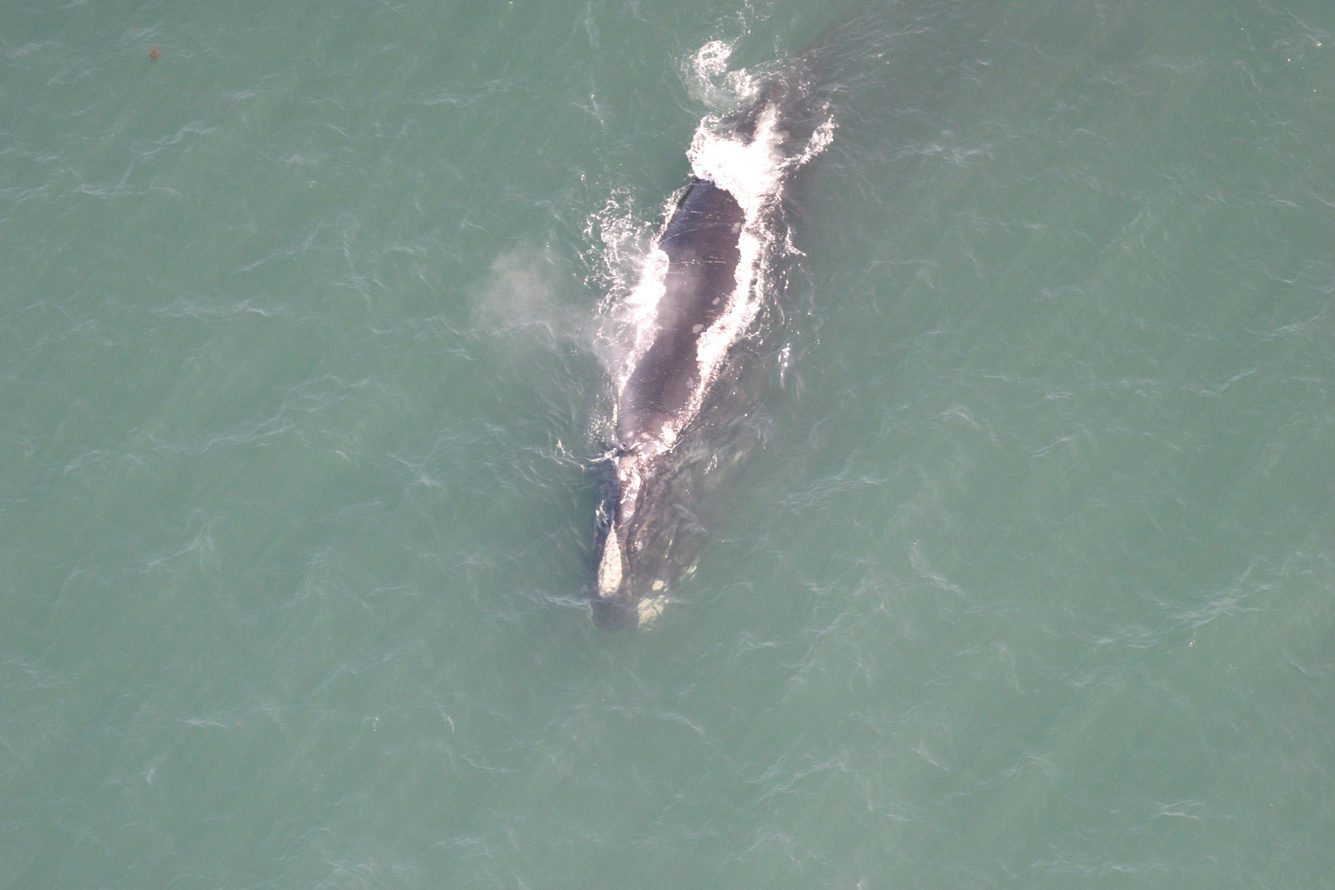whale: (547, 0, 932, 644)
